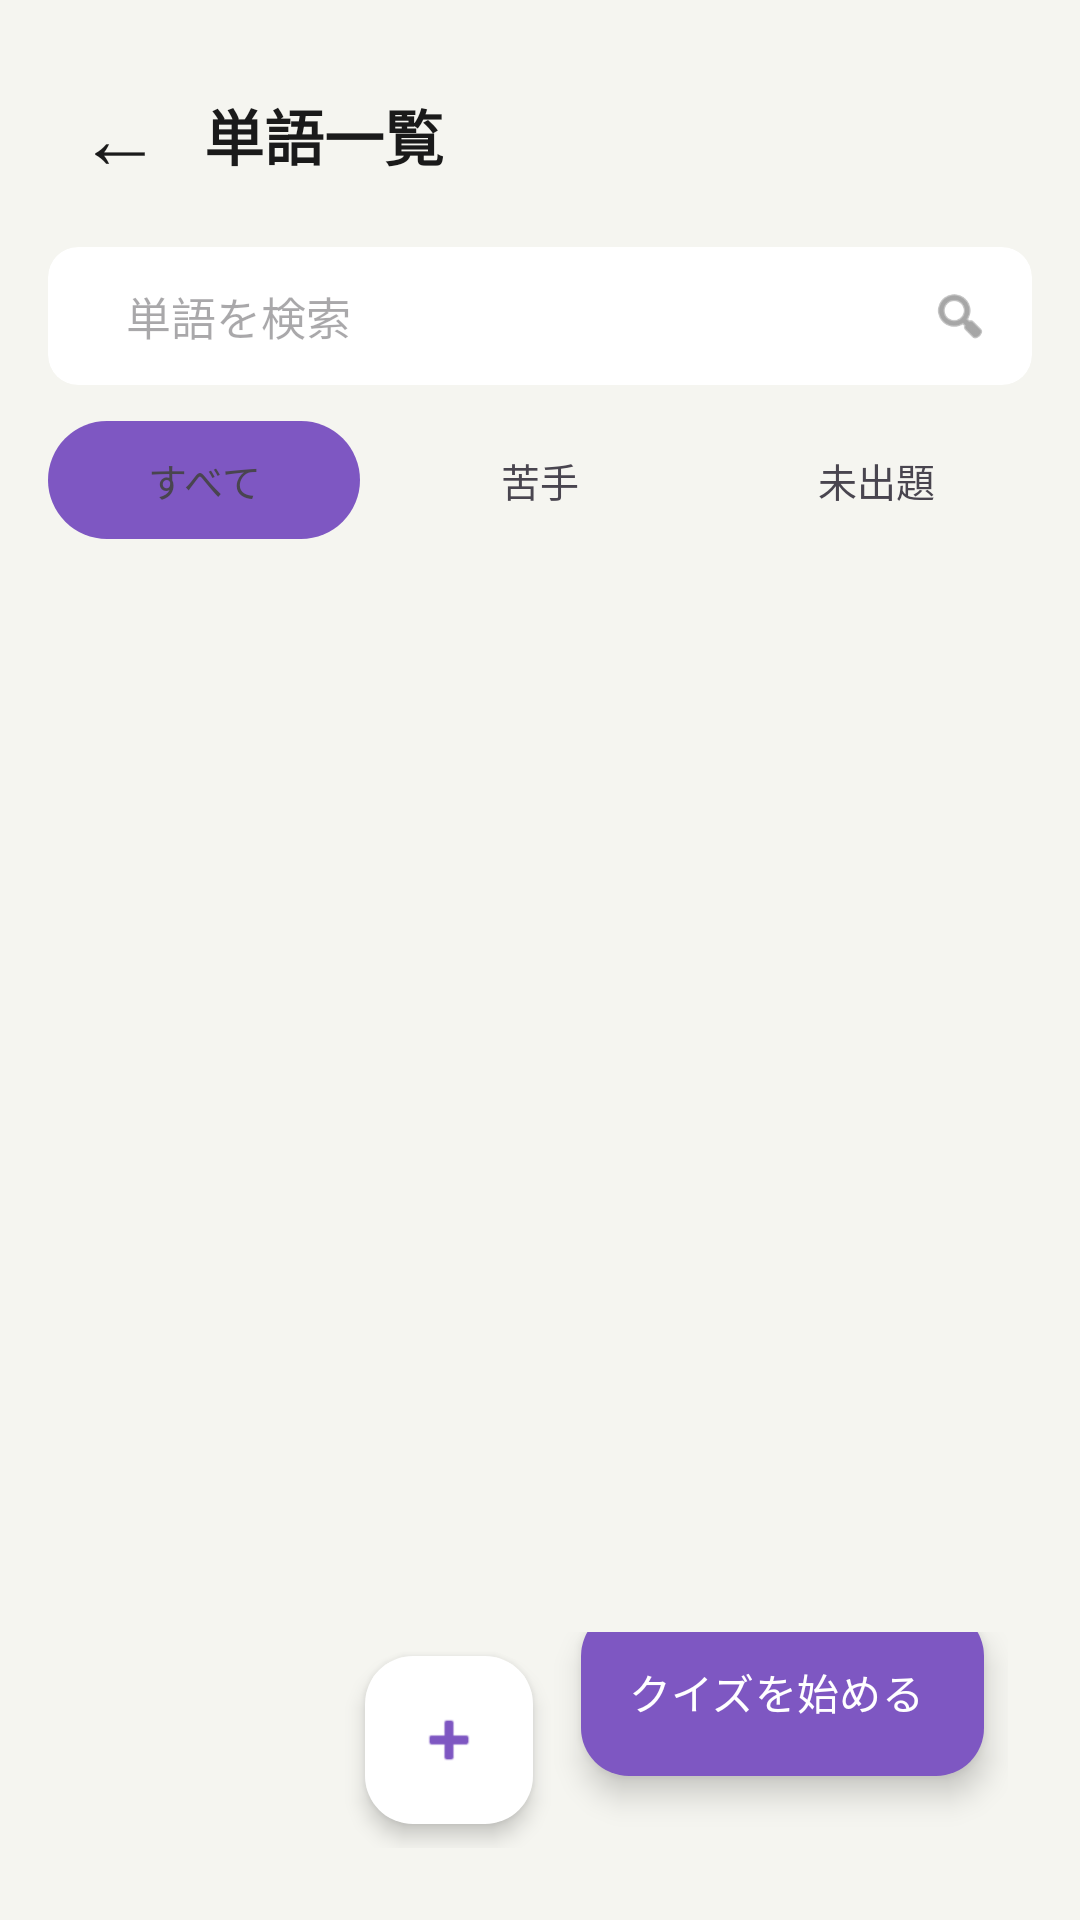

Screen size 1080*1920. Icon name, then its center in pixels as (x=x, y=y):
単語を追加: (x=449, y=1740)
